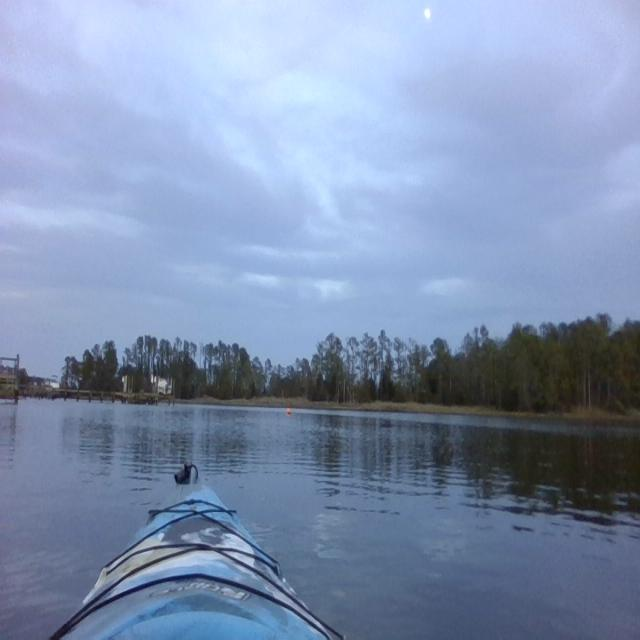Buoy: (286, 406, 292, 416)
